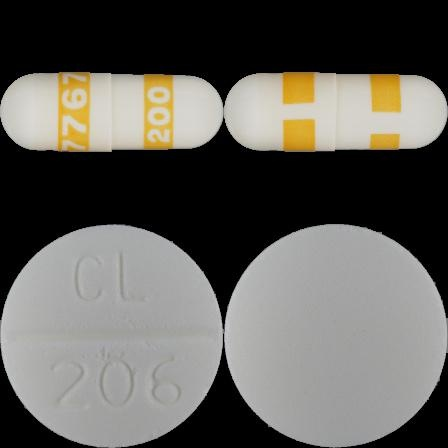43353-036: (0, 0, 224, 224)
